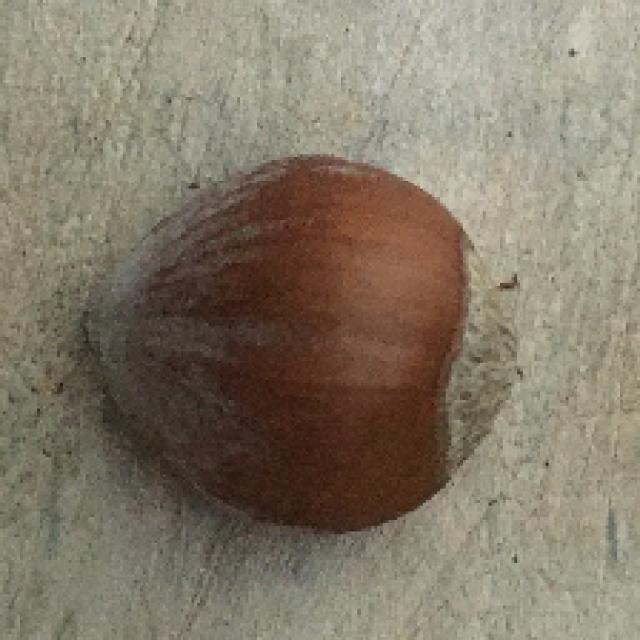qualityHazelnut: (89, 147, 520, 536)
